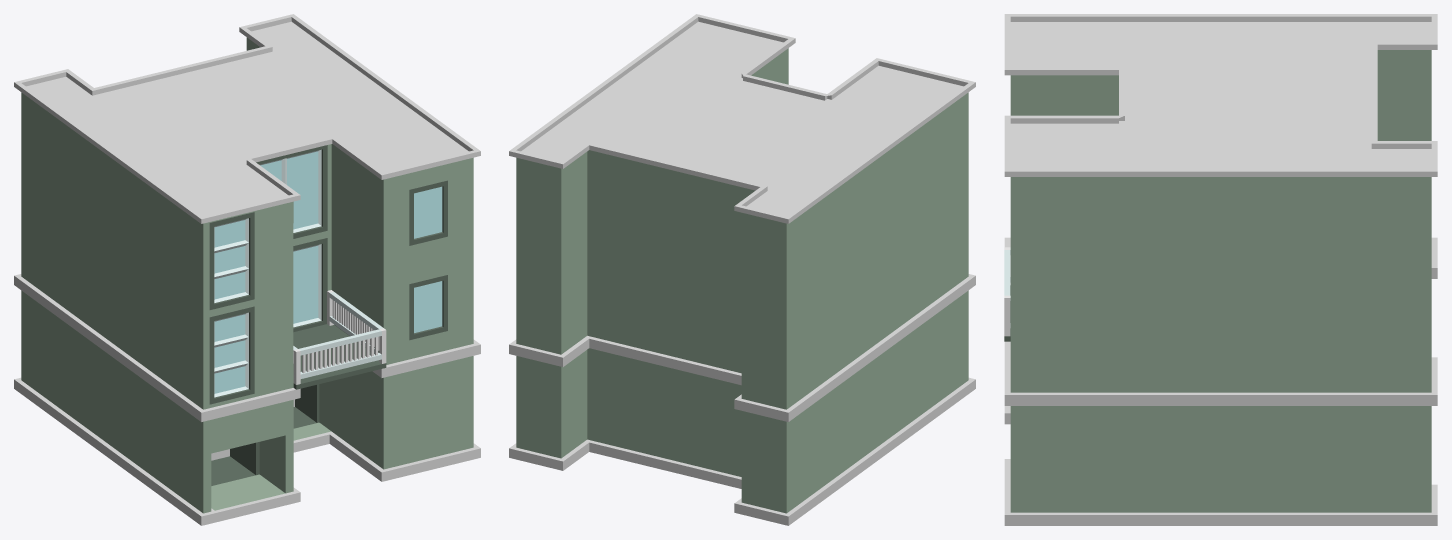
The model's file is building2.fbx.
3 views of the same model, side by side, from view 1: azimuth 30°, elevation 25°; view 2: azimuth 150°, elevation 25°; view 3: azimuth 270°, elevation 25° (orthographic). The views are drawn at different scales.
Parts seen in each view (by area): view 1: building_003; view 2: building_003; view 3: building_003.
Boxes of the visible parts, <box> form: building_003: <box>14,14,480,525</box>; building_003: <box>509,14,975,525</box>; building_003: <box>1004,14,1437,525</box>.
Size of the model in its own units: 620 by 650 by 721.
